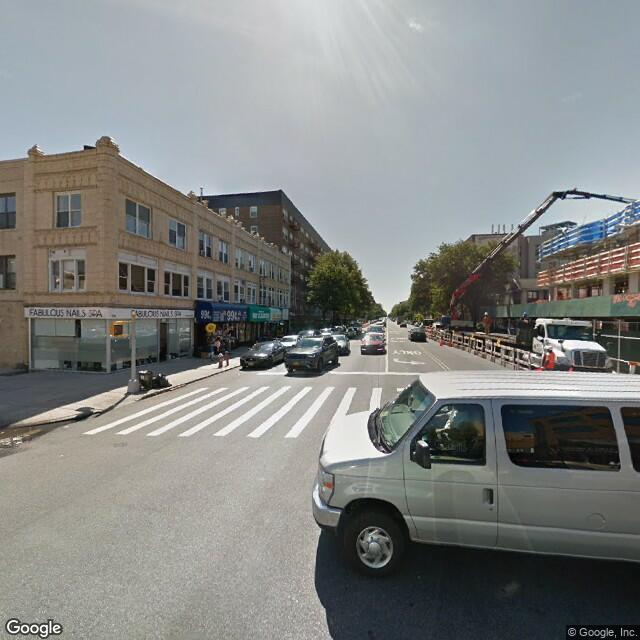litter: (11, 438, 25, 448), (61, 423, 72, 429)
